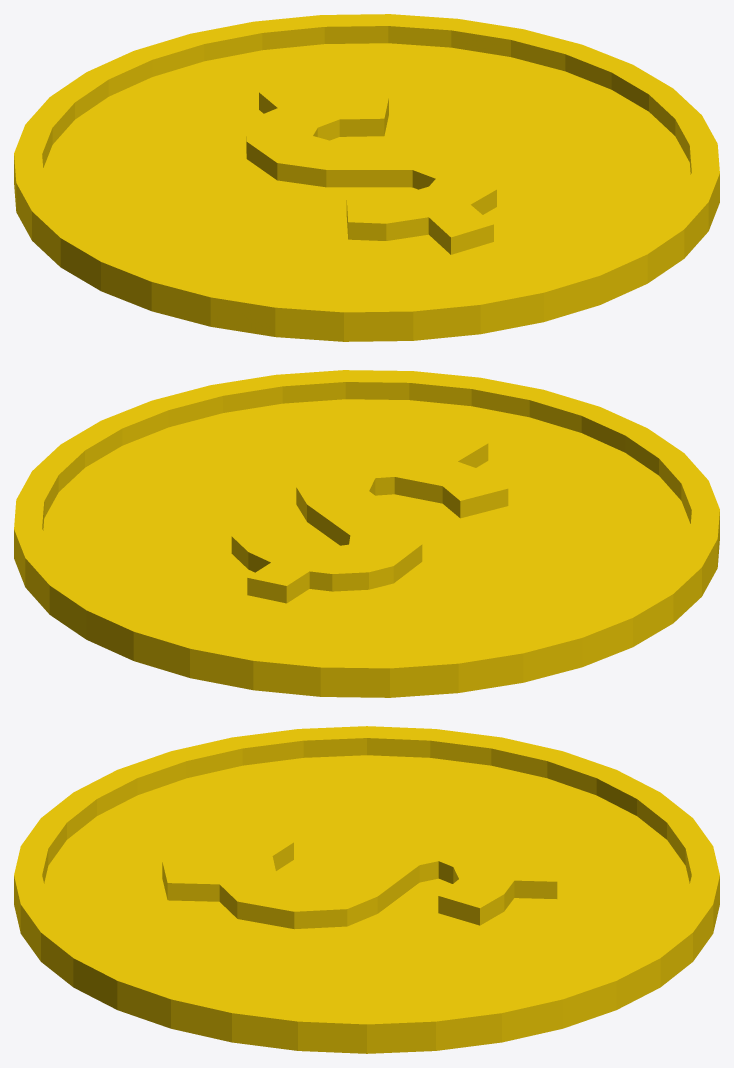
Rendered from Coin.fbx.
3 views of the same model, one above another, from view 1: azimuth 30°, elevation 25°; view 2: azimuth 150°, elevation 25°; view 3: azimuth 270°, elevation 25° (orthographic).
Visible parts, largest first — view 1: Circle; view 2: Circle; view 3: Circle.
Part boxes in pixels (<box>): Circle: <box>14,14,719,341</box>; Circle: <box>14,370,719,697</box>; Circle: <box>14,726,719,1053</box>.
Size of the model in its own units: 200 by 10.87 by 200.
